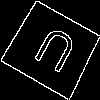U: (26, 24, 80, 83)
